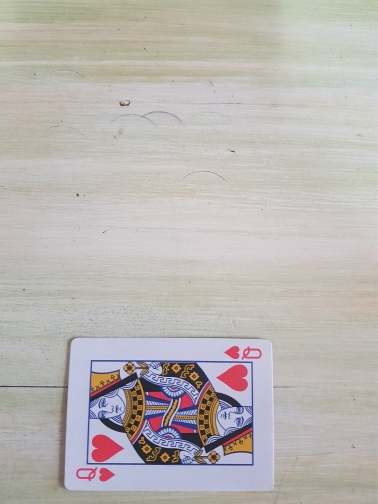queen: (62, 337, 278, 492)
